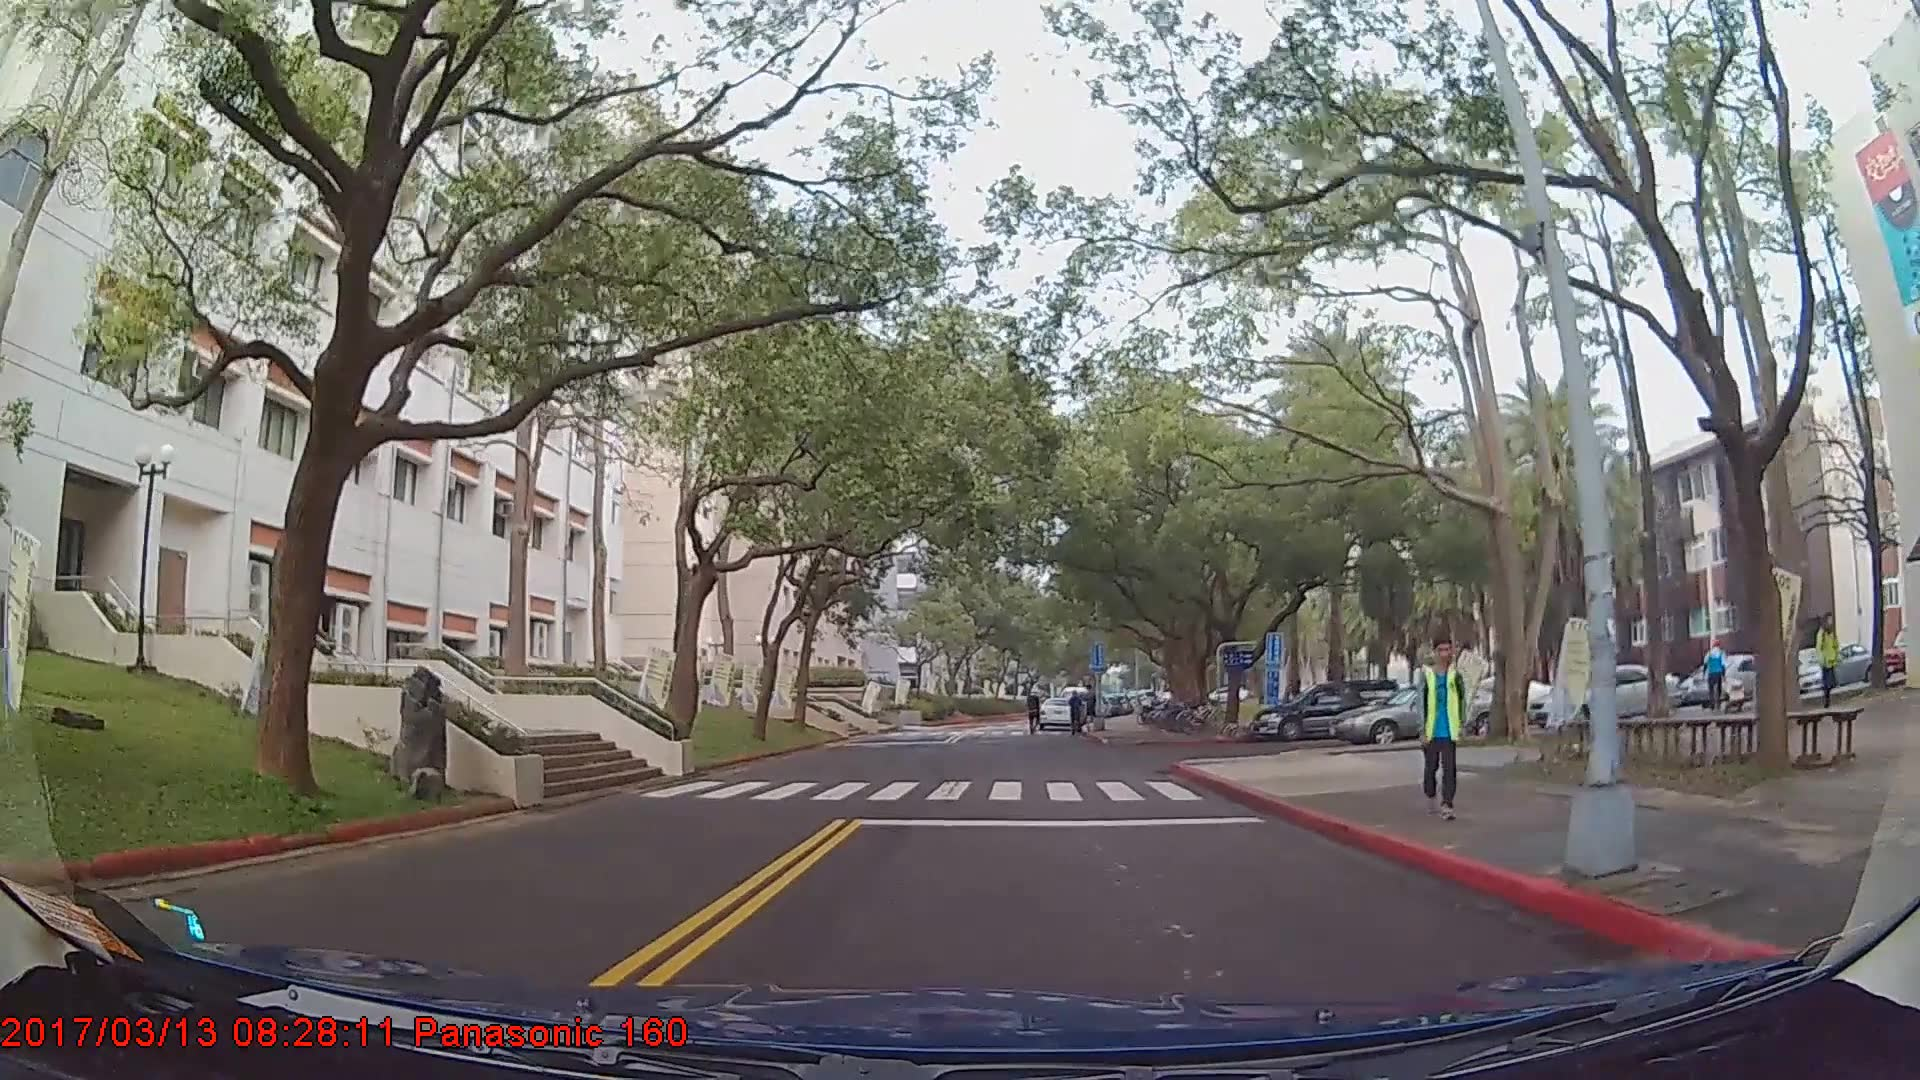pedestrian: (1408, 627, 1468, 813), (1699, 626, 1733, 717), (1814, 614, 1844, 717), (1026, 688, 1046, 736), (1067, 689, 1087, 734)
vehicle: (1329, 681, 1509, 745), (1528, 662, 1680, 730), (1253, 679, 1399, 740), (1792, 641, 1879, 692), (1037, 694, 1079, 732)
